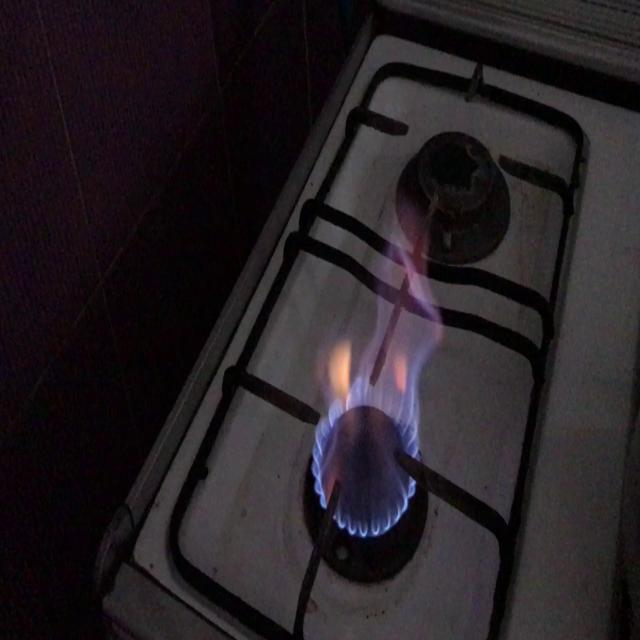fire: (305, 175, 458, 540)
